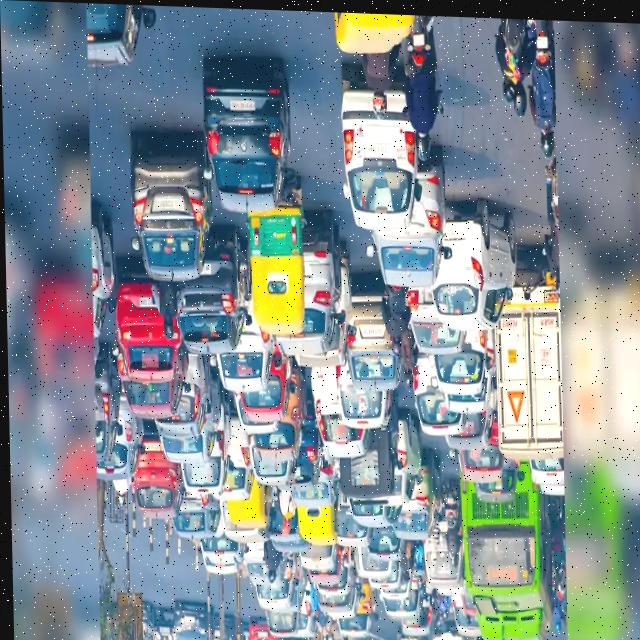plate: (364, 138, 395, 157), (226, 96, 256, 113), (155, 194, 182, 211), (411, 27, 427, 47), (443, 224, 465, 237), (141, 441, 158, 453), (361, 324, 381, 333), (537, 31, 548, 46), (250, 215, 261, 228), (445, 492, 452, 502)
